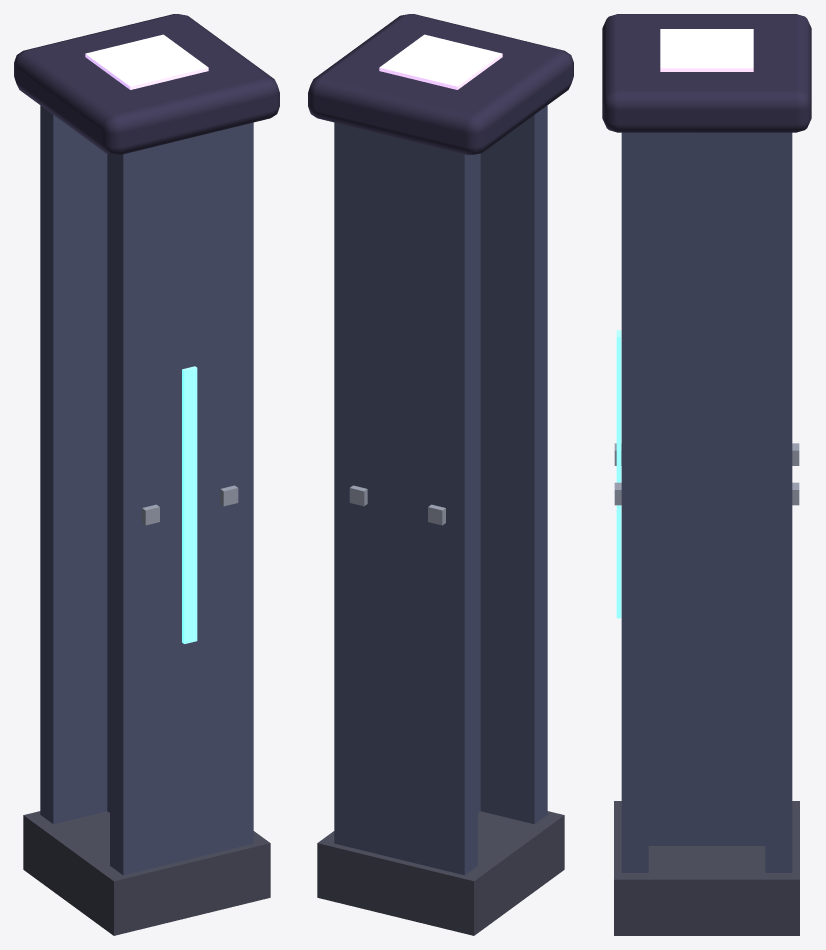
Rendered from pfosten_halb.glb.
3 views of the same model, side by side, from view 1: azimuth 30°, elevation 25°; view 2: azimuth 150°, elevation 25°; view 3: azimuth 270°, elevation 25° (orthographic). The views are drawn at different scales.
Parts seen in each view (by area): view 1: pfosten_halb; view 2: pfosten_halb; view 3: pfosten_halb.
Boxes of the visible parts, x1=… form: pfosten_halb: x1=14, y1=14, x2=279, y2=935; pfosten_halb: x1=308, y1=14, x2=573, y2=935; pfosten_halb: x1=602, y1=14, x2=811, y2=935.
Size of the model in its own units: 0.27 by 1.21 by 0.27.
